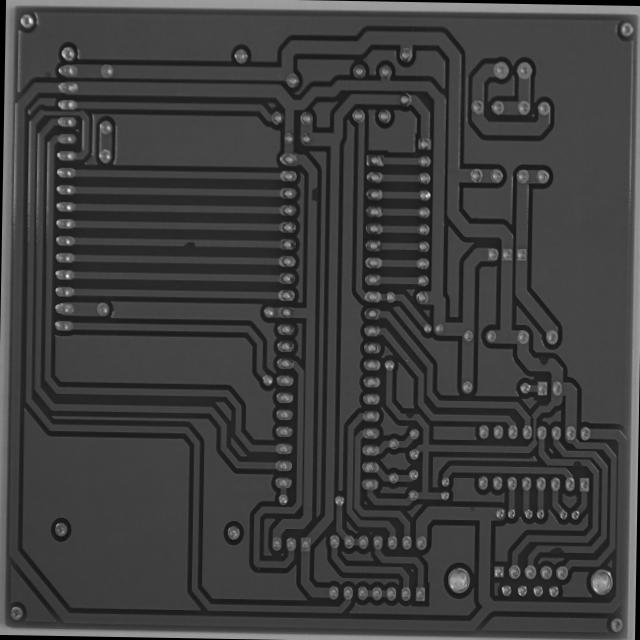mouse_bite: (545, 541, 566, 556), (180, 236, 200, 250), (308, 183, 320, 206), (402, 409, 418, 425), (568, 456, 584, 471)
